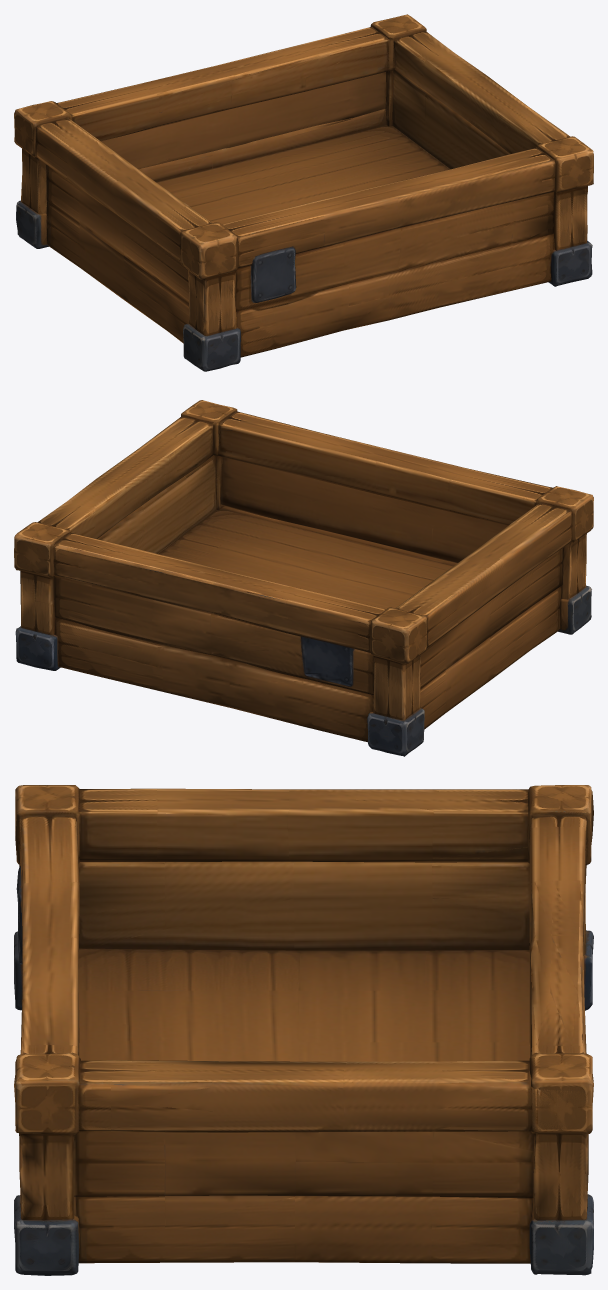
The model's file is Wooden_Crate.fbx.
3 views of the same model, one above another, from view 1: azimuth 30°, elevation 25°; view 2: azimuth 150°, elevation 25°; view 3: azimuth 270°, elevation 25° (orthographic). The views are drawn at different scales.
Visible parts, largest first — view 1: mesh_node; view 2: mesh_node; view 3: mesh_node.
Boxes of the visible parts, x1,y1,x2,y2 form: mesh_node: [14, 14, 593, 371]; mesh_node: [14, 400, 593, 756]; mesh_node: [14, 785, 593, 1275].
Bounding box in the file's own units: 100 × 31.54 × 82.81.
Materials: 1 (1 with a texture image).
